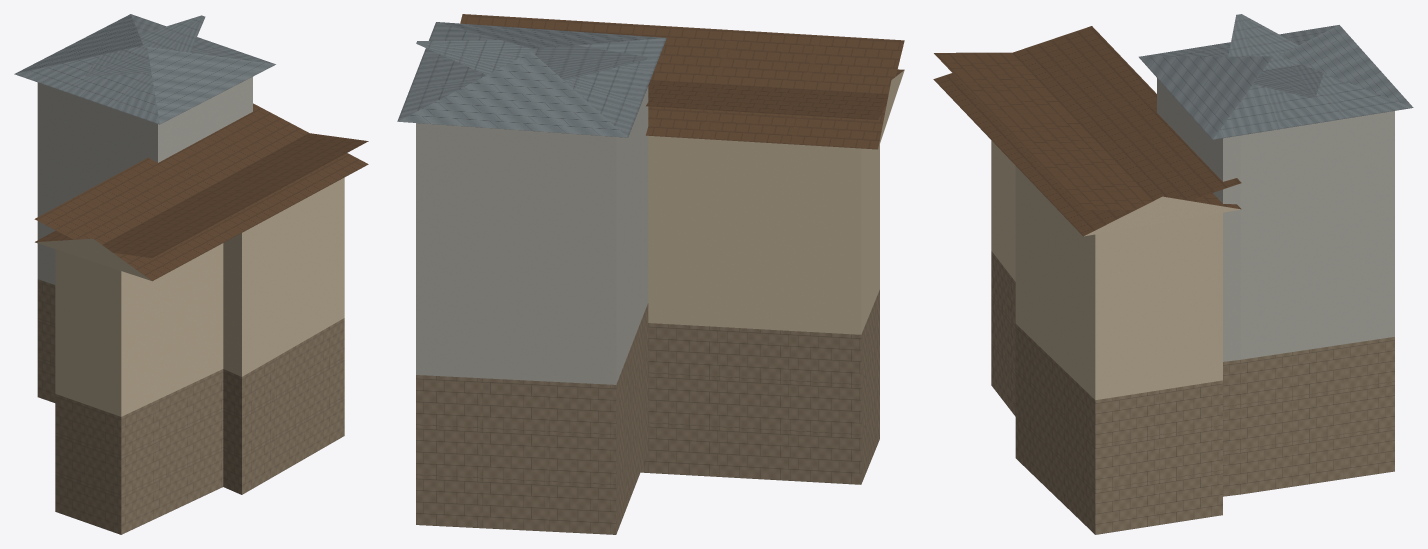
The model's file is bld_c9_17_438.gltf.
3 views of the same model, side by side, from view 1: azimuth 30°, elevation 25°; view 2: azimuth 150°, elevation 25°; view 3: azimuth 270°, elevation 25° (orthographic). The views are drawn at different scales.
Parts seen in each view (by area): view 1: bld_c9_17_438; view 2: bld_c9_17_438; view 3: bld_c9_17_438.
Part boxes in pixels (x1,y1,x2,y2): bld_c9_17_438: (14, 14, 368, 534); bld_c9_17_438: (397, 14, 904, 534); bld_c9_17_438: (933, 14, 1413, 534).
Size of the model in its own units: 14.95 by 15.6 by 16.48.
6 materials, 6 textured.
